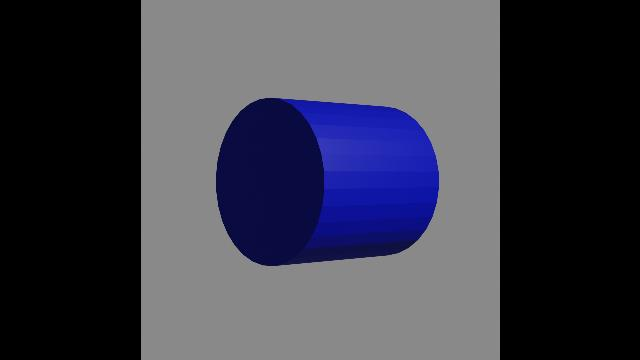Cylinder: (207, 90, 449, 274)
